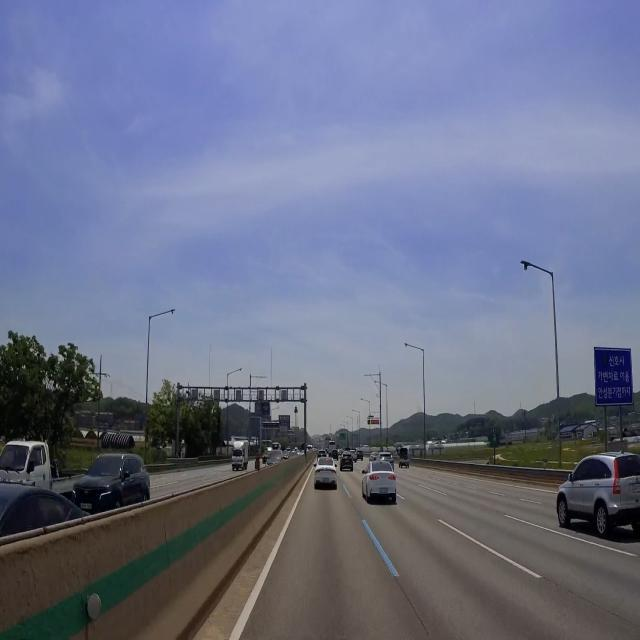car: (76, 499, 97, 514), (376, 486, 393, 501), (632, 481, 640, 497), (321, 475, 330, 486)
